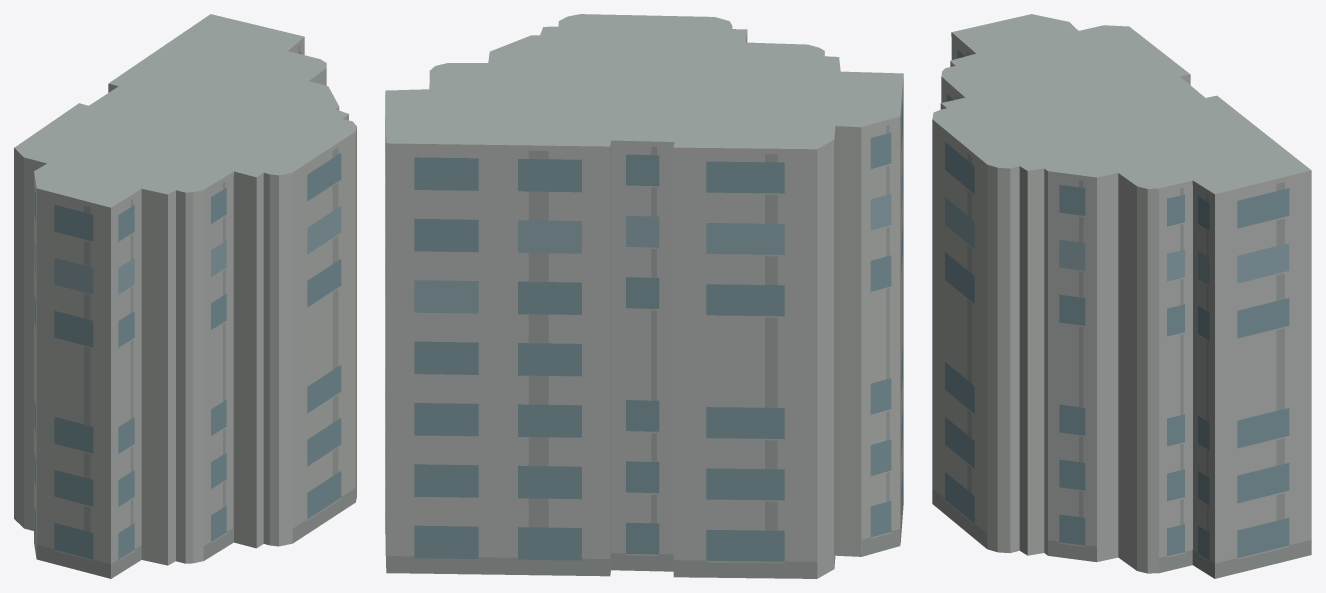
The model's file is survey-upis-32662825.glb.
3 views of the same model, side by side, from view 1: azimuth 30°, elevation 25°; view 2: azimuth 150°, elevation 25°; view 3: azimuth 270°, elevation 25° (orthographic). The views are drawn at different scales.
Parts seen in each view (by area): view 1: survey-upis-32662825.tmp; view 2: survey-upis-32662825.tmp; view 3: survey-upis-32662825.tmp.
Part boxes in pixels (x1,y1,x2,y2): survey-upis-32662825.tmp: (14, 14, 356, 578); survey-upis-32662825.tmp: (385, 14, 903, 578); survey-upis-32662825.tmp: (932, 14, 1311, 578).
Size of the model in its own units: 19.51 by 19.4 by 17.34.
